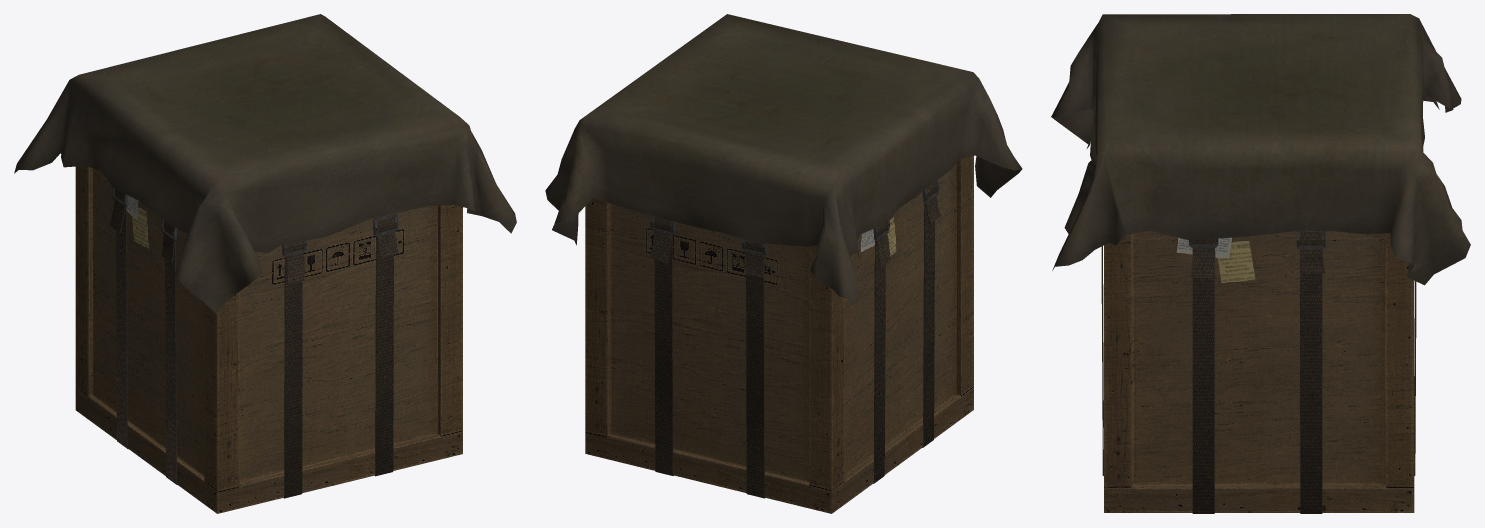
File: wooden_crate_hx_4_1.glb
3 views of the same model, side by side, from view 1: azimuth 30°, elevation 25°; view 2: azimuth 150°, elevation 25°; view 3: azimuth 270°, elevation 25° (orthographic). The views are drawn at different scales.
Parts seen in each view (by area): view 1: wooden_crate_hx_4_1; view 2: wooden_crate_hx_4_1; view 3: wooden_crate_hx_4_1.
Part boxes in pixels (x1,y1,x2,y2): wooden_crate_hx_4_1: [14, 14, 516, 513]; wooden_crate_hx_4_1: [545, 14, 1022, 513]; wooden_crate_hx_4_1: [1051, 14, 1470, 513].
Bounding box in the file's own units: 1.89 × 1.84 × 1.89.
4 materials, 4 textured.
